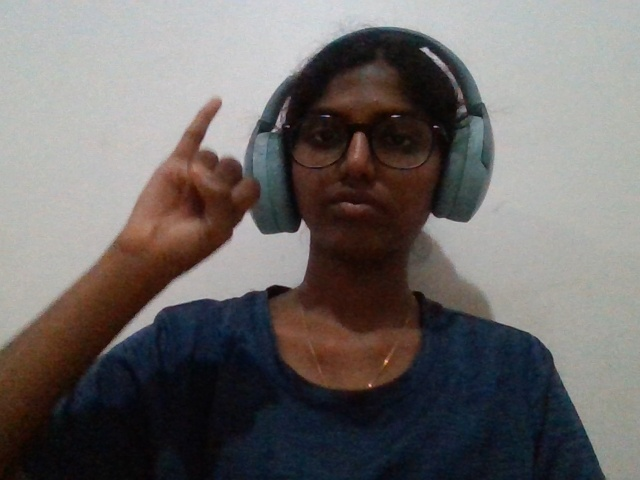I: (85, 82, 275, 314)
